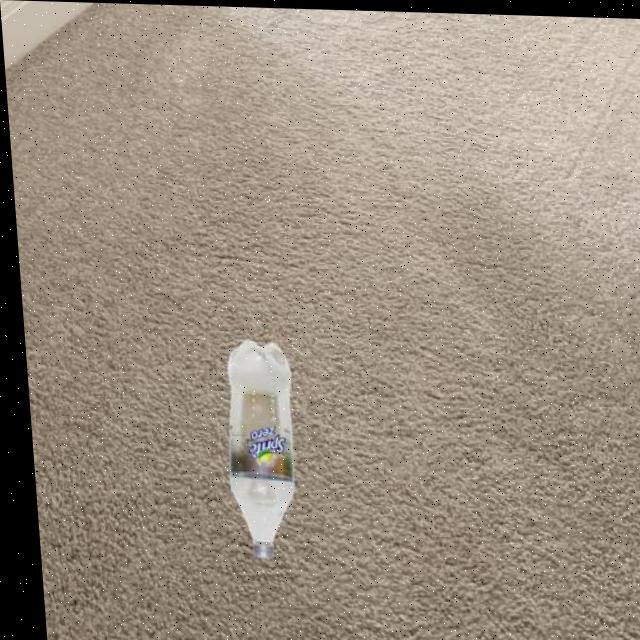bottle: (212, 336, 296, 559)
